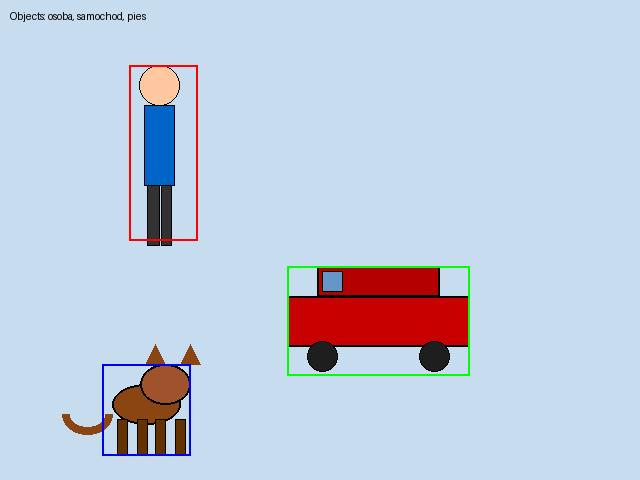osoba: (129, 65, 197, 240)
pies: (102, 364, 190, 455)
samochod: (287, 266, 469, 375)
